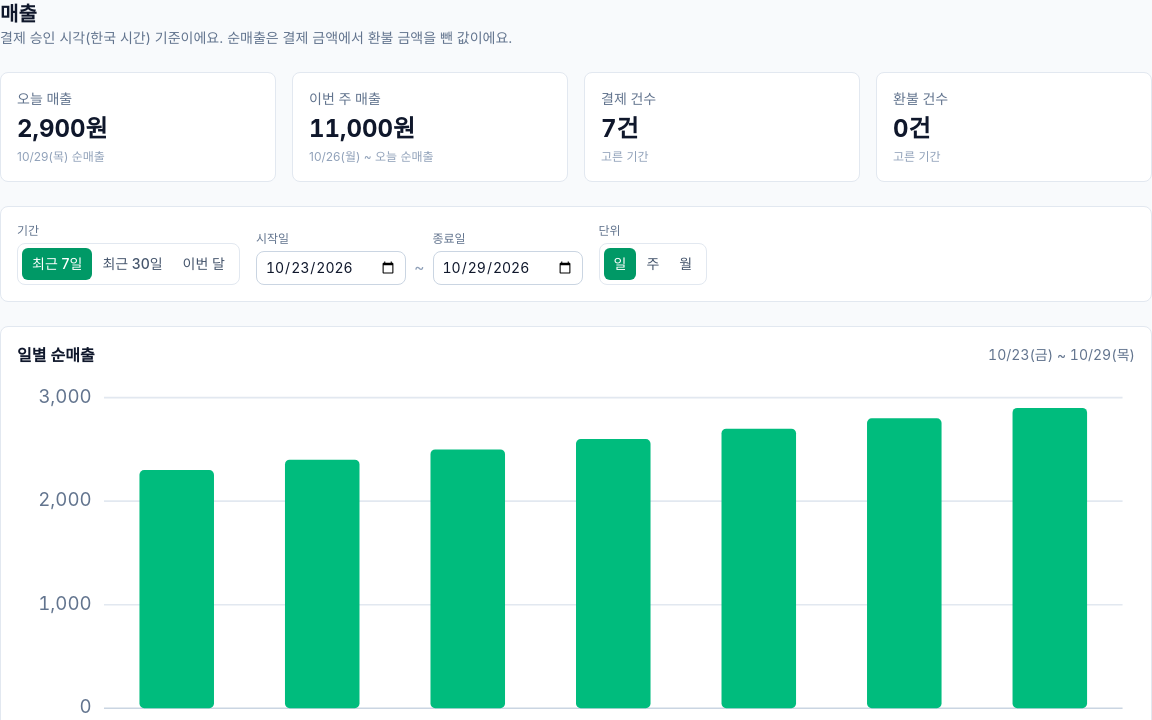
점주 매출 대시보드 › 단위를 바꾸면 같은 기간을 그 단위로 다시 읽고 그래프 제목·표 이름이 따라간다
The image size is (1152, 720).
Click the button "주": (653, 264) [636, 248, 669, 280]
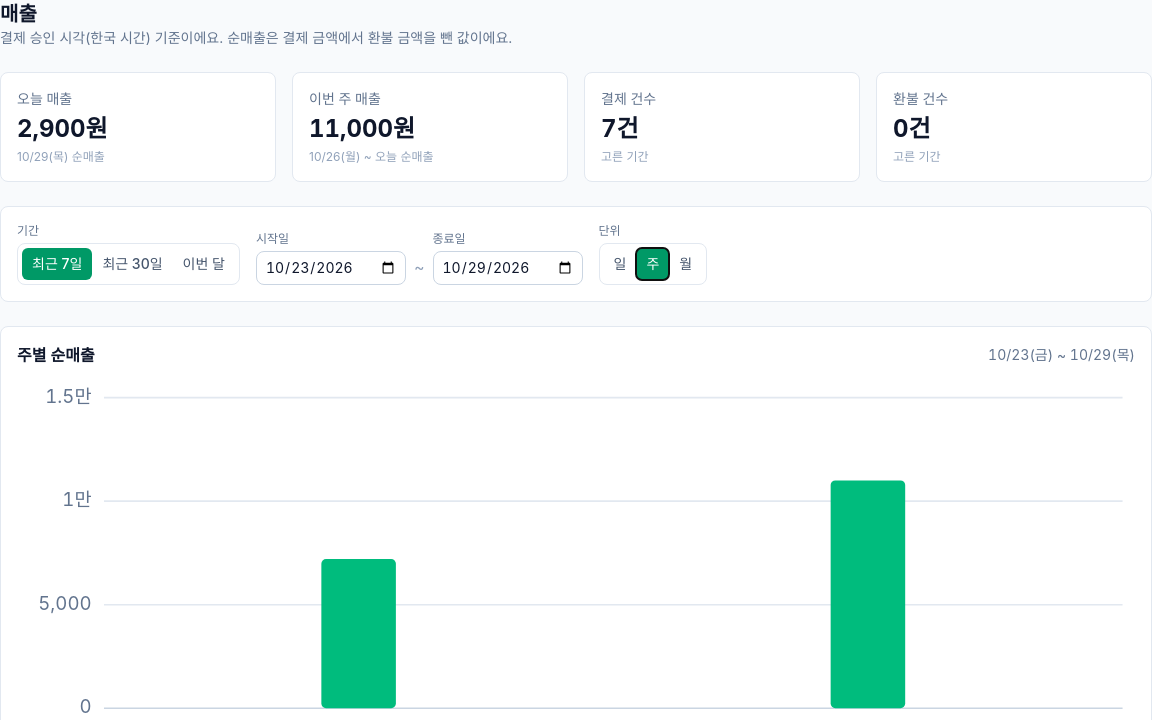
Result: the heading "주별 순매출" is shown at [17, 343, 95, 367]
Click the button "월": (686, 264) [669, 248, 702, 280]
(page scrolled)
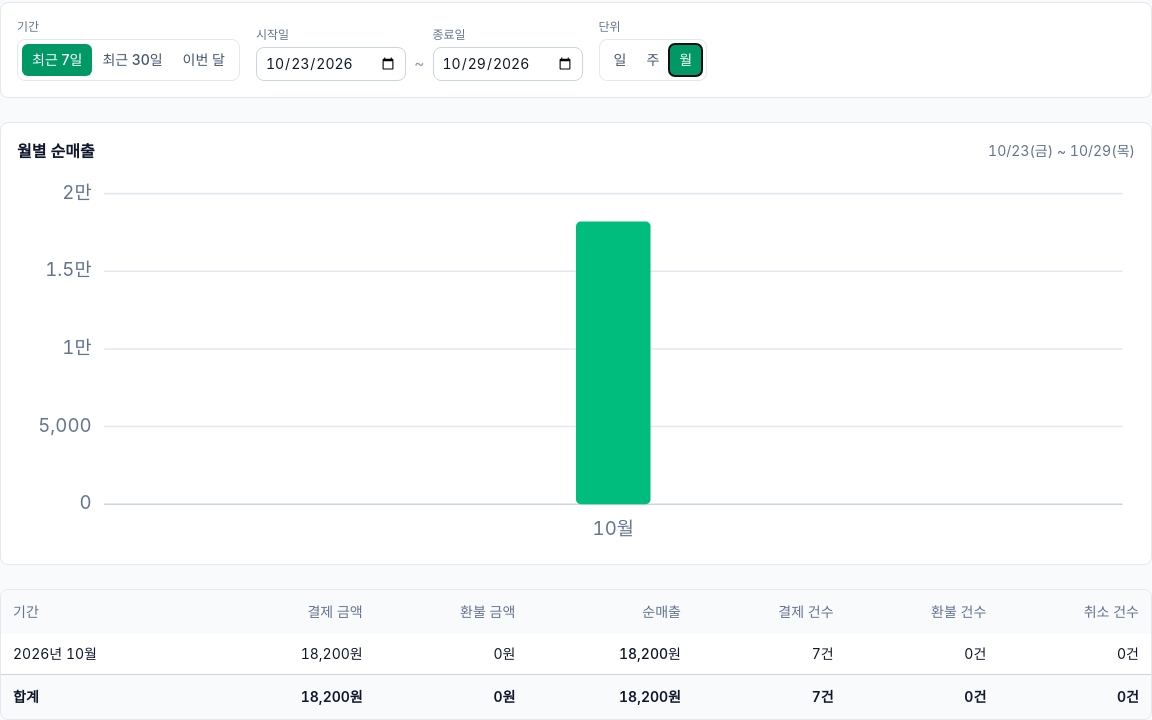
Result: the heading "월별 순매출" is shown at [17, 139, 95, 163]
Result: the text "2026년 10월" is shown at [1, 634, 209, 674]
